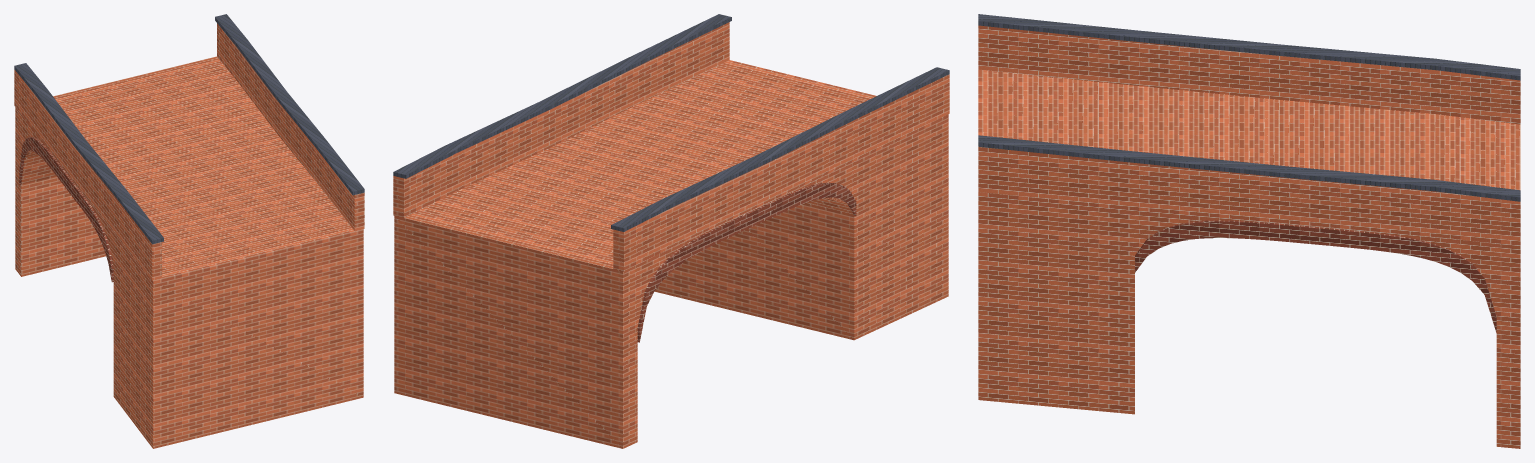
The model's file is bridge-2.glb.
3 renders of one model, left to right at view 1: azimuth 30°, elevation 25°; view 2: azimuth 150°, elevation 25°; view 3: azimuth 270°, elevation 25°, orthographic. The views are drawn at different scales.
Visible parts, largest first — view 1: Masonry, Parapet.001, ArchRing; view 2: Masonry, Parapet.001, ArchRing; view 3: Masonry, Parapet.001, ArchRing.
Part boxes in pixels (x1,y1,x2,y2): Masonry: (14, 23, 364, 448); Parapet.001: (14, 14, 364, 244); ArchRing: (19, 137, 113, 282); Masonry: (393, 22, 949, 448); Parapet.001: (393, 14, 949, 231); ArchRing: (637, 182, 856, 342); Masonry: (978, 25, 1520, 448); Parapet.001: (978, 14, 1520, 201); ArchRing: (1135, 220, 1496, 332).
Size of the model in its own units: 10.44 by 7.09 by 13.5.
Materials: 3 (3 with a texture image).
